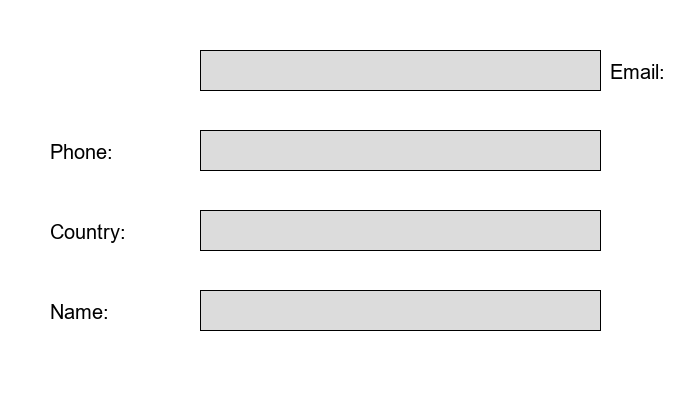Label: (50, 220, 120, 239), (50, 140, 107, 155), (50, 300, 103, 315), (610, 60, 659, 75)
Textbox: (200, 50, 600, 90), (200, 130, 600, 170), (200, 210, 600, 250), (200, 290, 600, 330)
